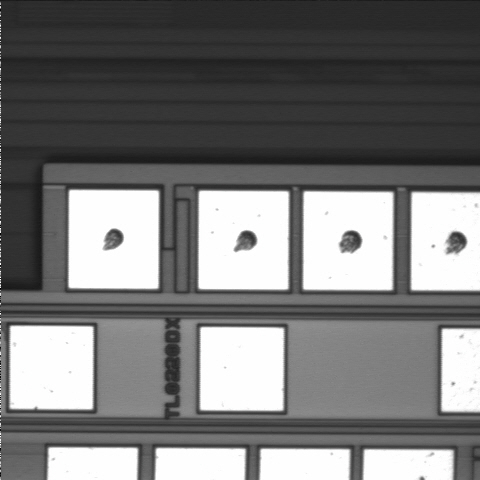pad: (69, 190, 159, 289), (199, 191, 289, 290), (303, 192, 393, 290), (200, 327, 284, 411), (10, 326, 93, 409)
